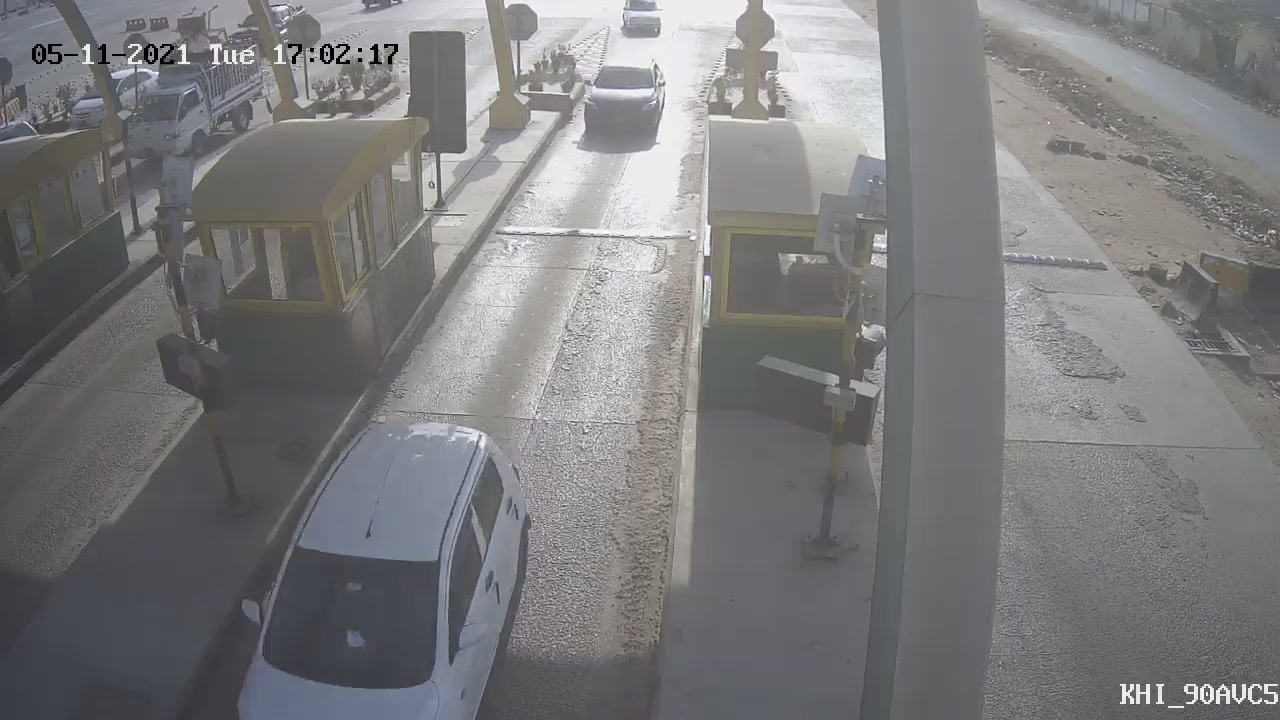F1: (563, 51, 678, 155)
